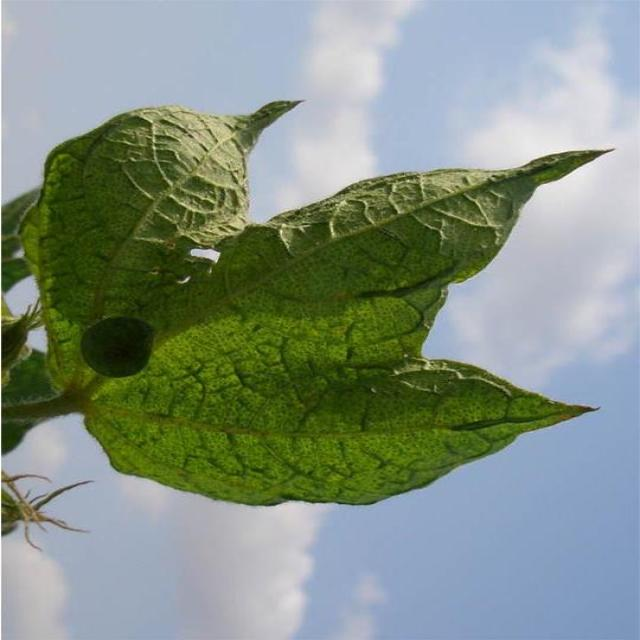Leaf Curl Virus: (53, 122, 522, 465)
